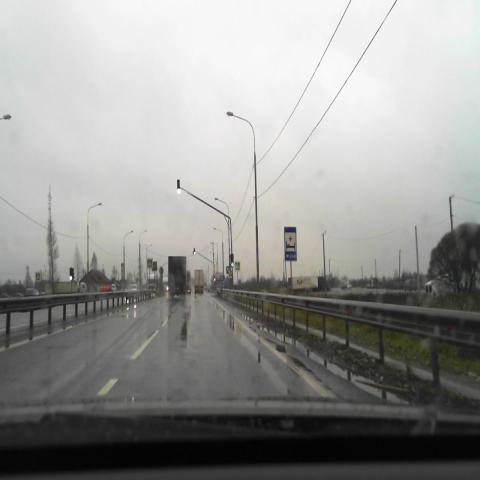7_2: (284, 227, 297, 260)
